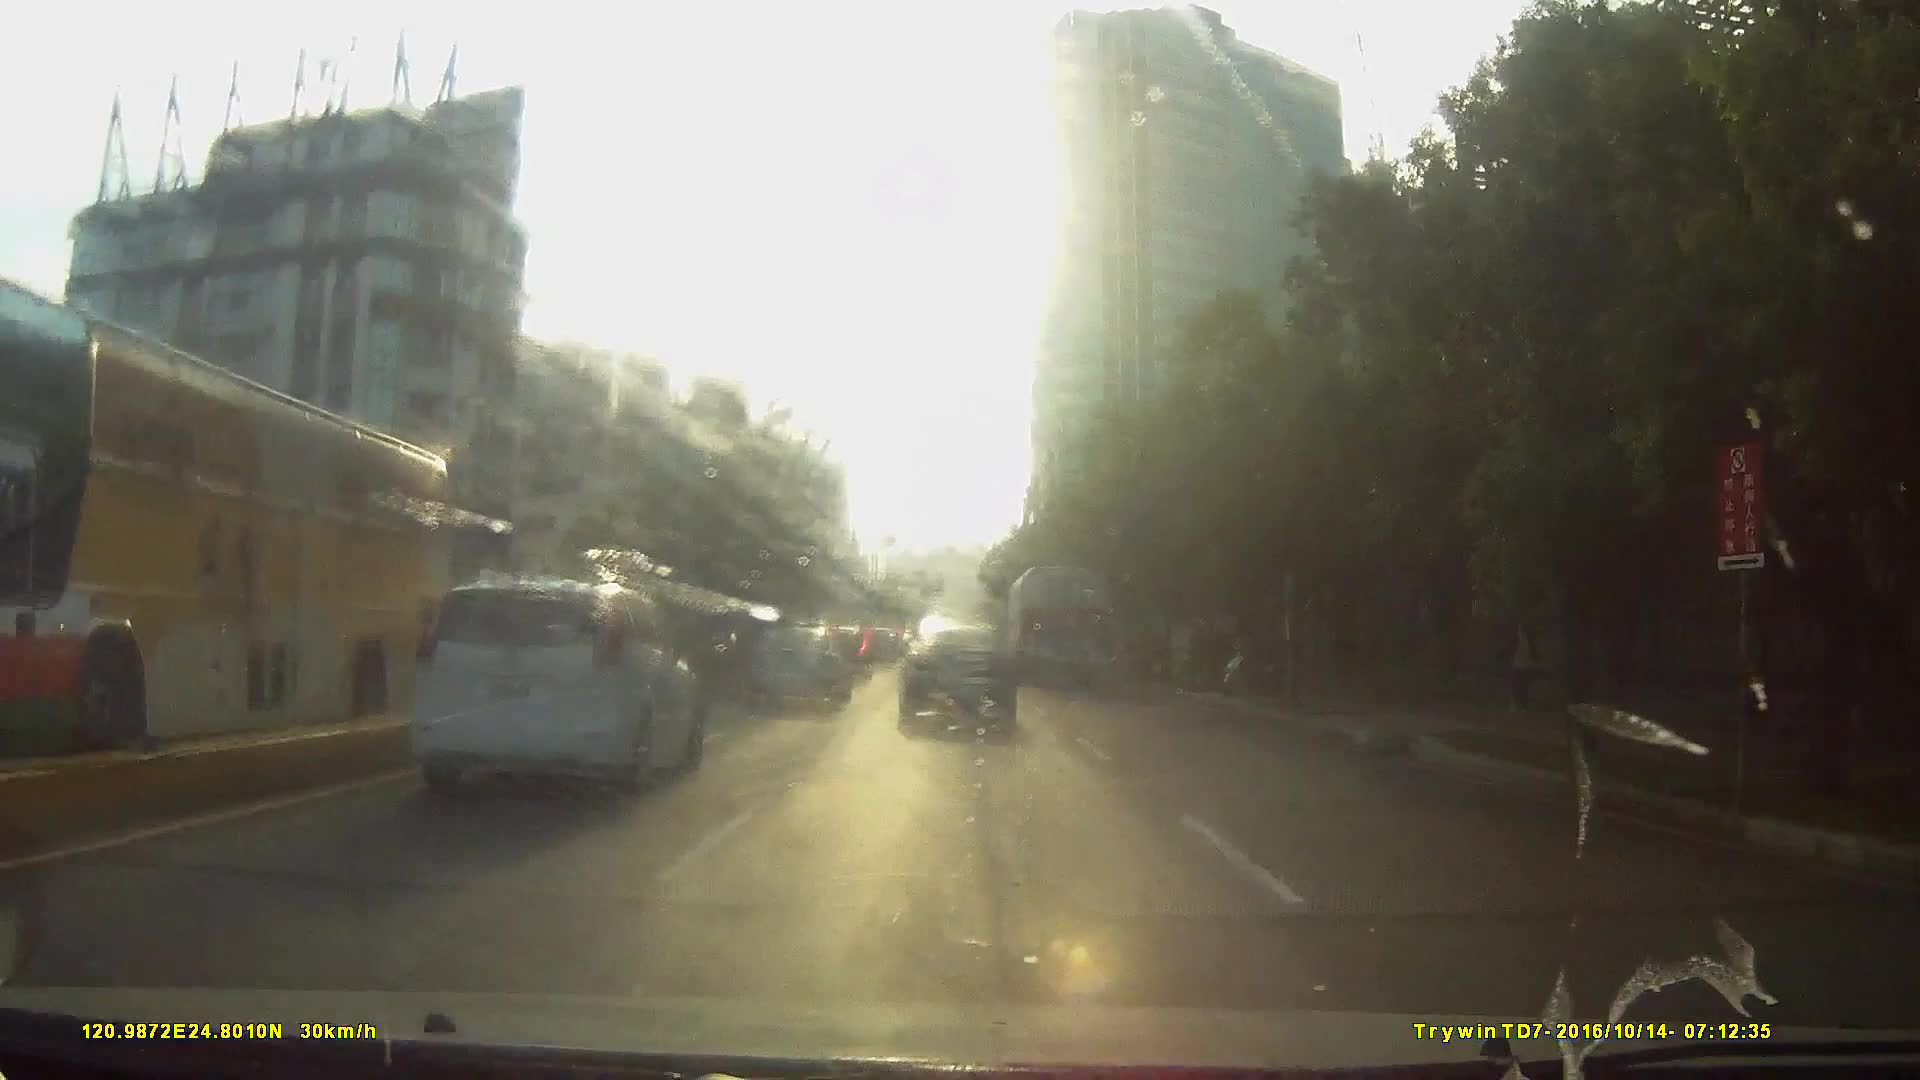pedestrian: (1491, 607, 1547, 717)
vehicle: (1, 284, 483, 792), (250, 556, 684, 868), (403, 567, 700, 805), (892, 617, 1014, 728), (1008, 562, 1113, 688), (742, 620, 850, 705), (866, 638, 915, 687)
